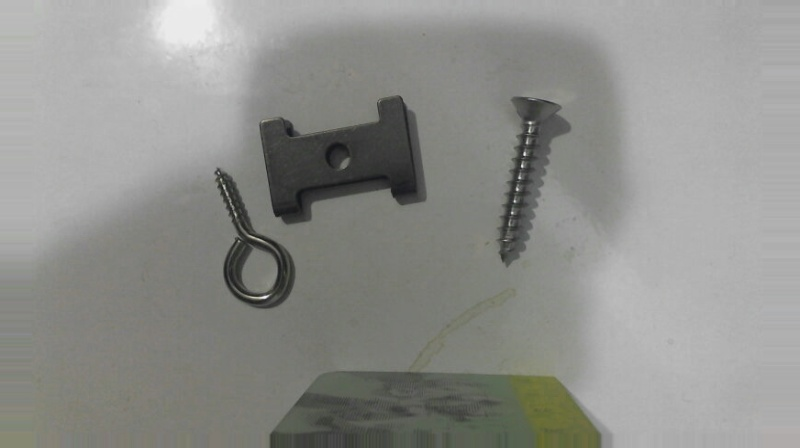O001: (211, 164, 296, 310)
O002: (255, 91, 419, 216)
S001: (495, 92, 565, 263)
